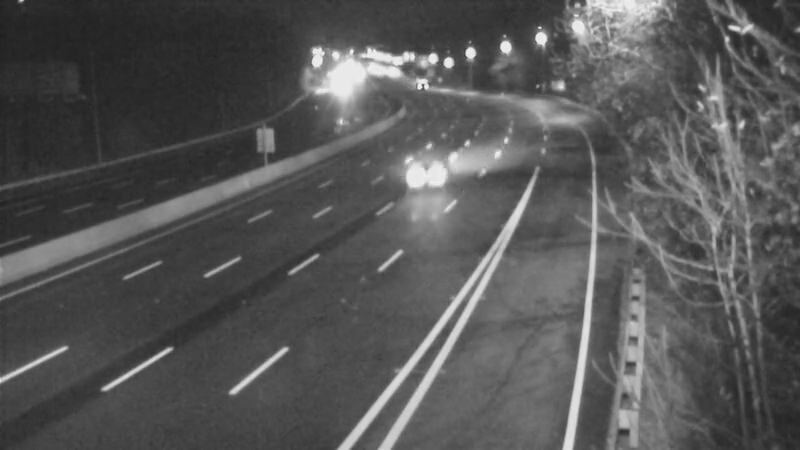vehicle: (393, 135, 473, 215), (395, 58, 445, 108)
